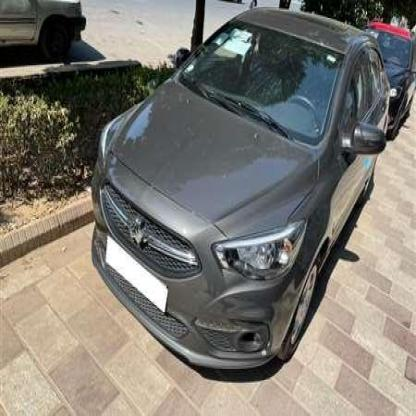Car: (85, 7, 391, 385), (360, 22, 410, 150), (0, 0, 84, 66)
